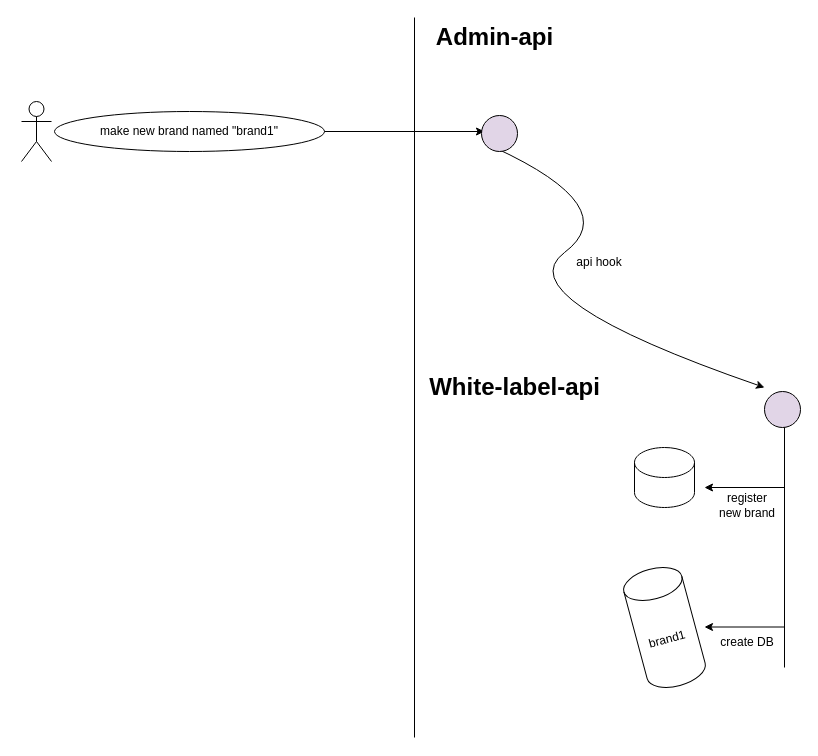
Image size: 818x756. Some labels were removed from this diagram. Each missing label, with the box of its shape:
admin1: (20, 100, 52, 162)
tenant: (634, 446, 694, 508)
